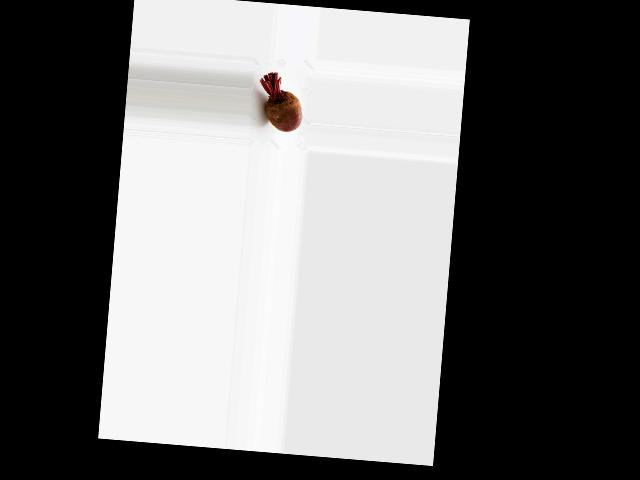beet: (255, 71, 305, 133)
